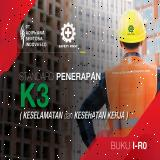Vest: (105, 54, 159, 139)
